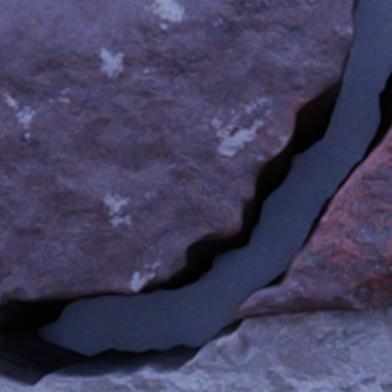broken_brick: (0, 0, 353, 307), (235, 127, 391, 317)
crack: (0, 0, 391, 391)
